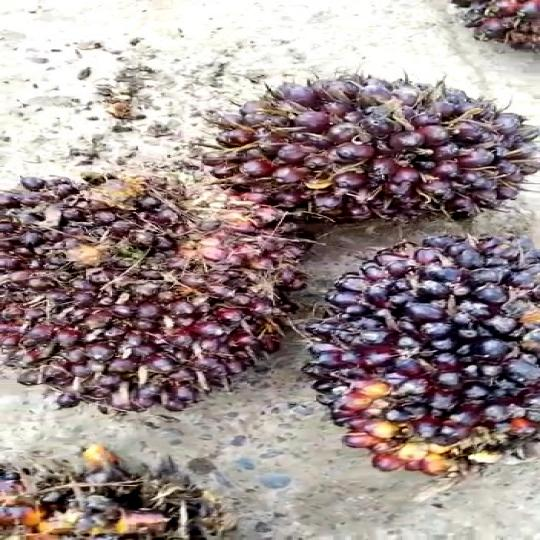kurang masak: (0, 171, 299, 413), (315, 235, 540, 478), (185, 77, 540, 228)
